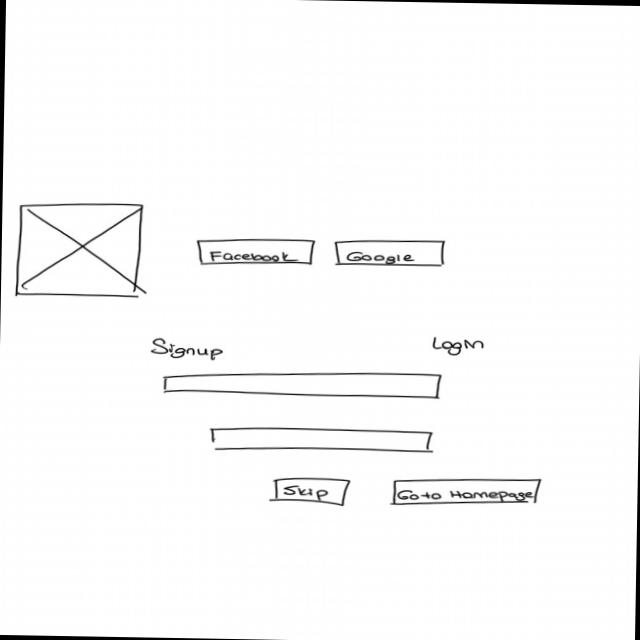button: (388, 474, 544, 508), (194, 235, 317, 268), (332, 236, 447, 268), (271, 475, 352, 507)
image: (10, 200, 146, 300)
input: (160, 366, 444, 401), (208, 424, 437, 454)
label: (148, 336, 227, 361), (430, 334, 488, 356)
